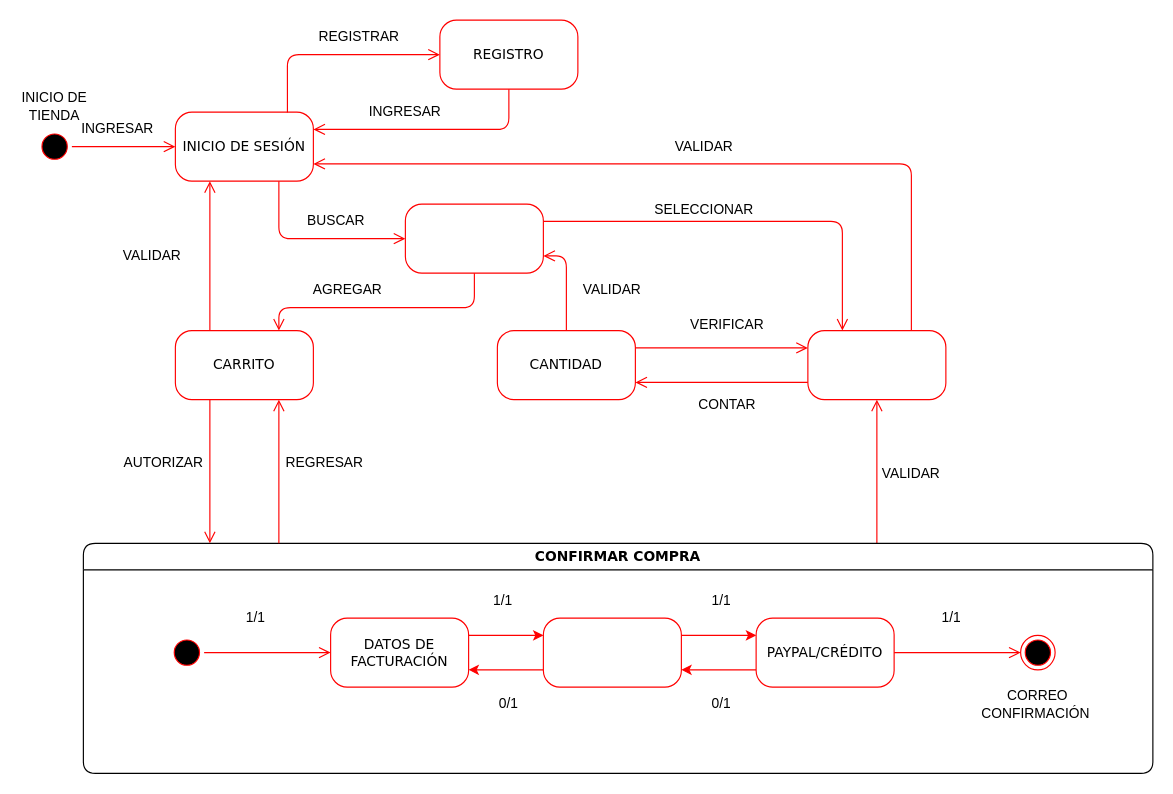
This 1173x794 diagram has some shape labels left out. The shapes that lost their labels are listed below. From the top down, each one's box as (x1, y1, x2, y2) in pixels, then its label:
(404, 203, 543, 273): PRODUCTOS ENCONTRADOS
(807, 329, 946, 400): PRODUCTOS SELECCIONADOS
(542, 617, 681, 687): DATOS DE ENVÍO
